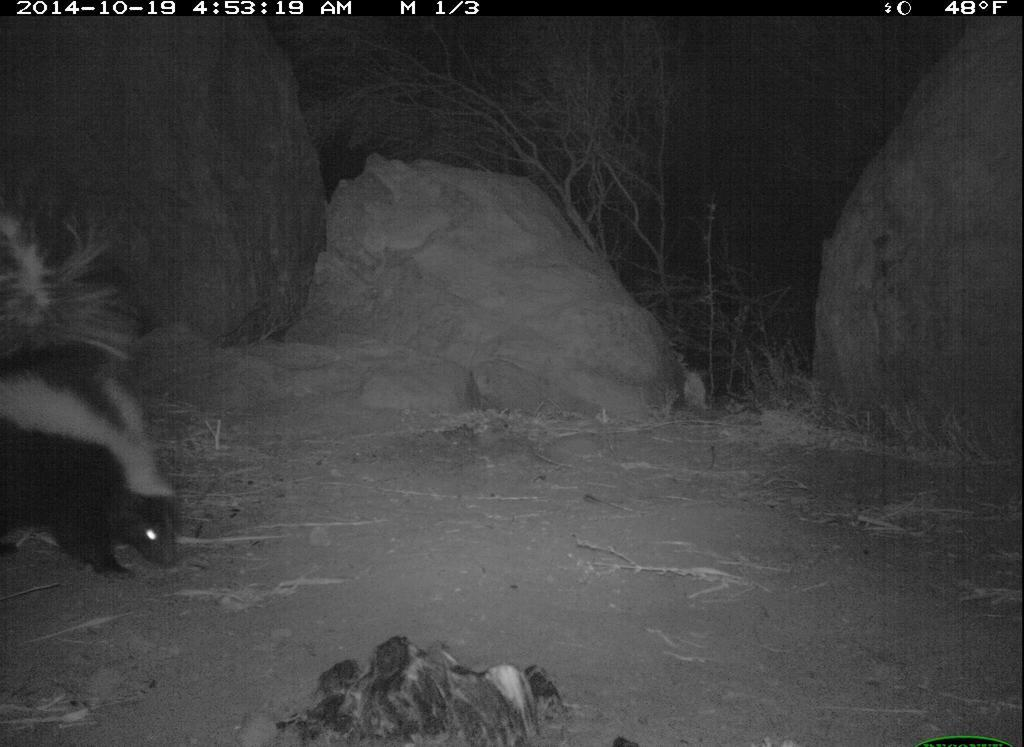skunk: (2, 321, 227, 602)
